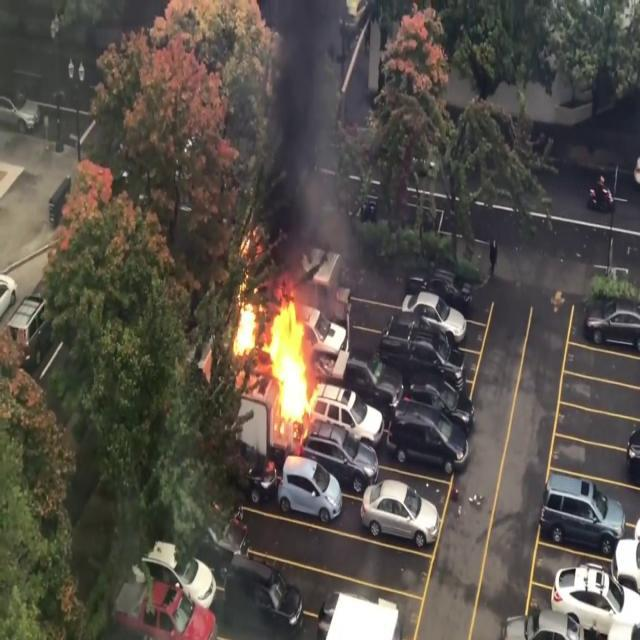Fire: (228, 286, 326, 434)
Smoke: (245, 0, 374, 276)
